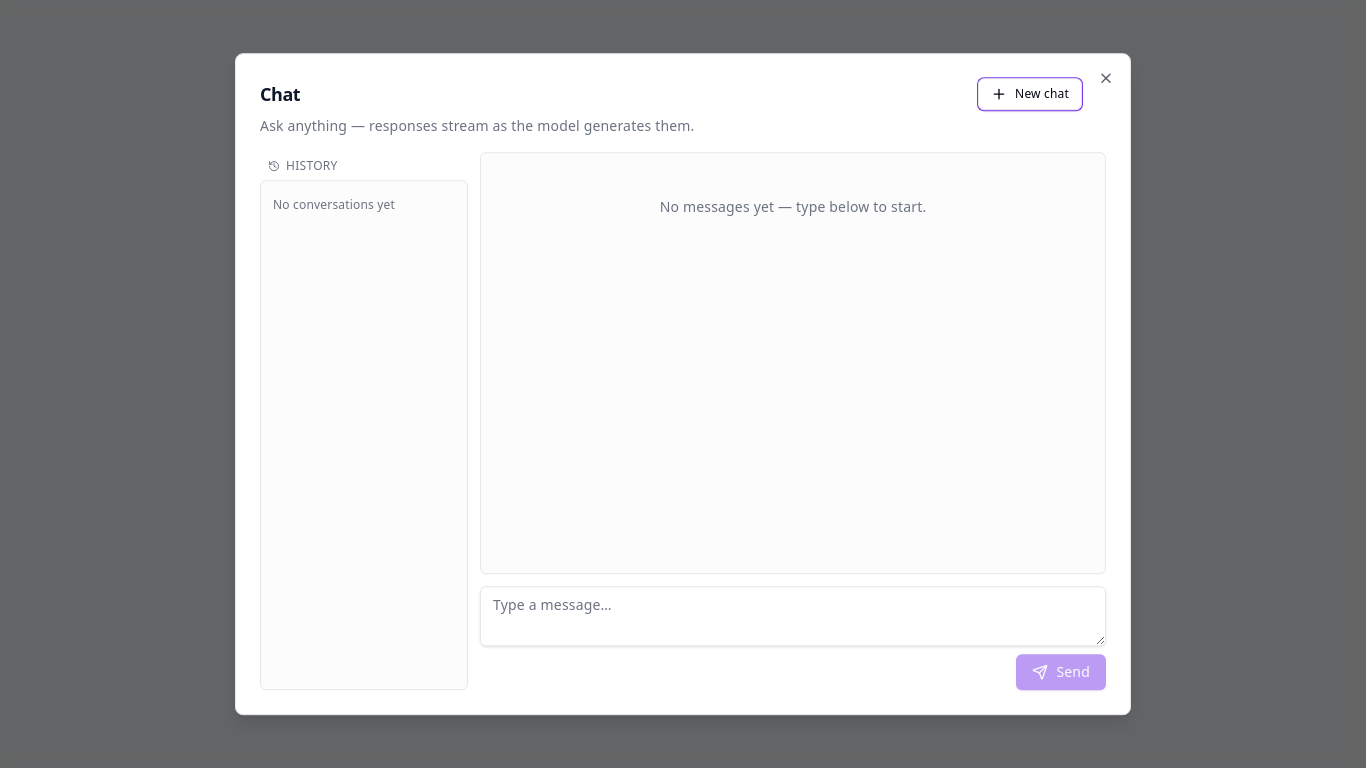
Test: ChatPanel › disables the Send button while streaming and shows Cancel
In the text box with test id "chat-input": [793, 616] box [480,586,1106,646], type "hold the line"
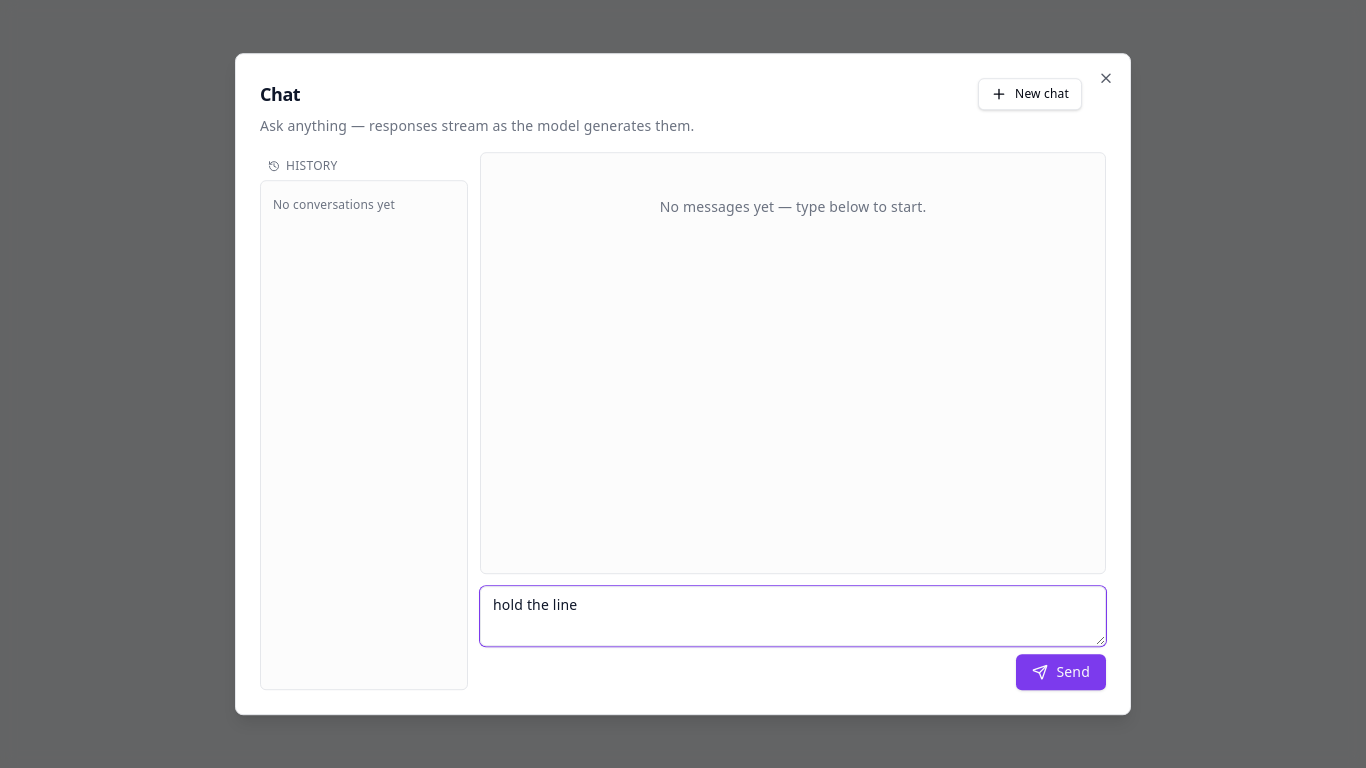
Click the button with test id "chat-send": [1061, 672] box [1016,654,1106,690]
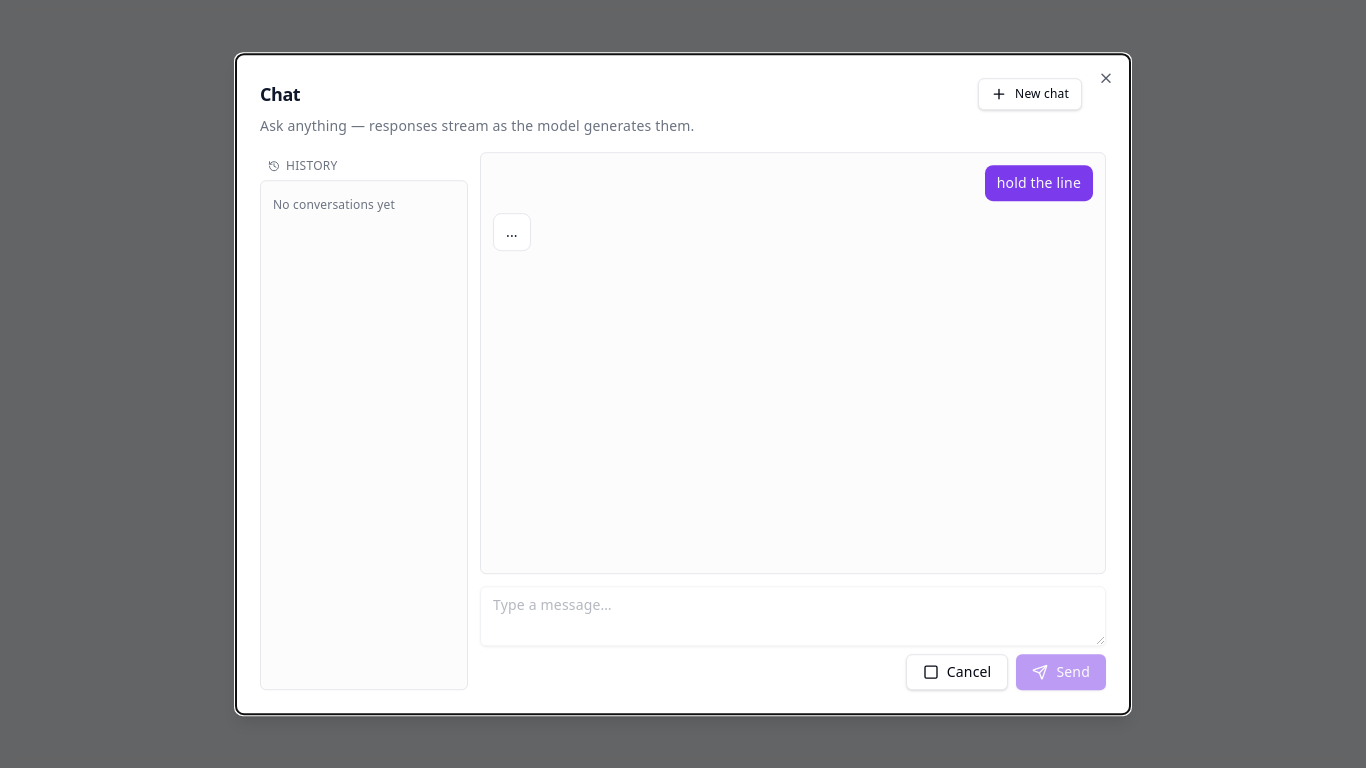
Expected: the button with test id "chat-send" is disabled, [1016,654,1106,690]
Expected: the button with test id "chat-cancel" is shown
Cancel aborts the stream — isStreaming flips back to false.
Click the button with test id "chat-cancel": [957, 672] box [906,654,1008,690]
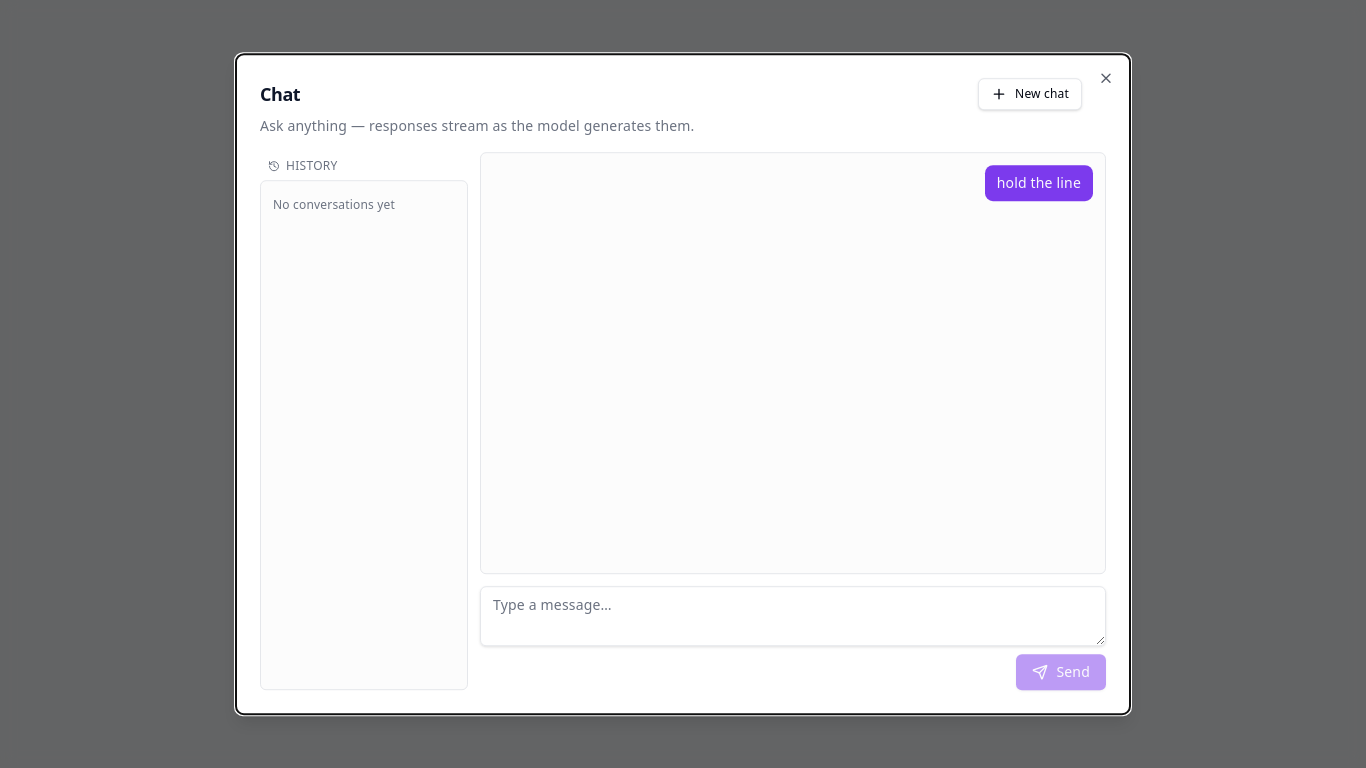
In the text box with test id "chat-input": [793, 616] box [480,586,1106,646], type "again"
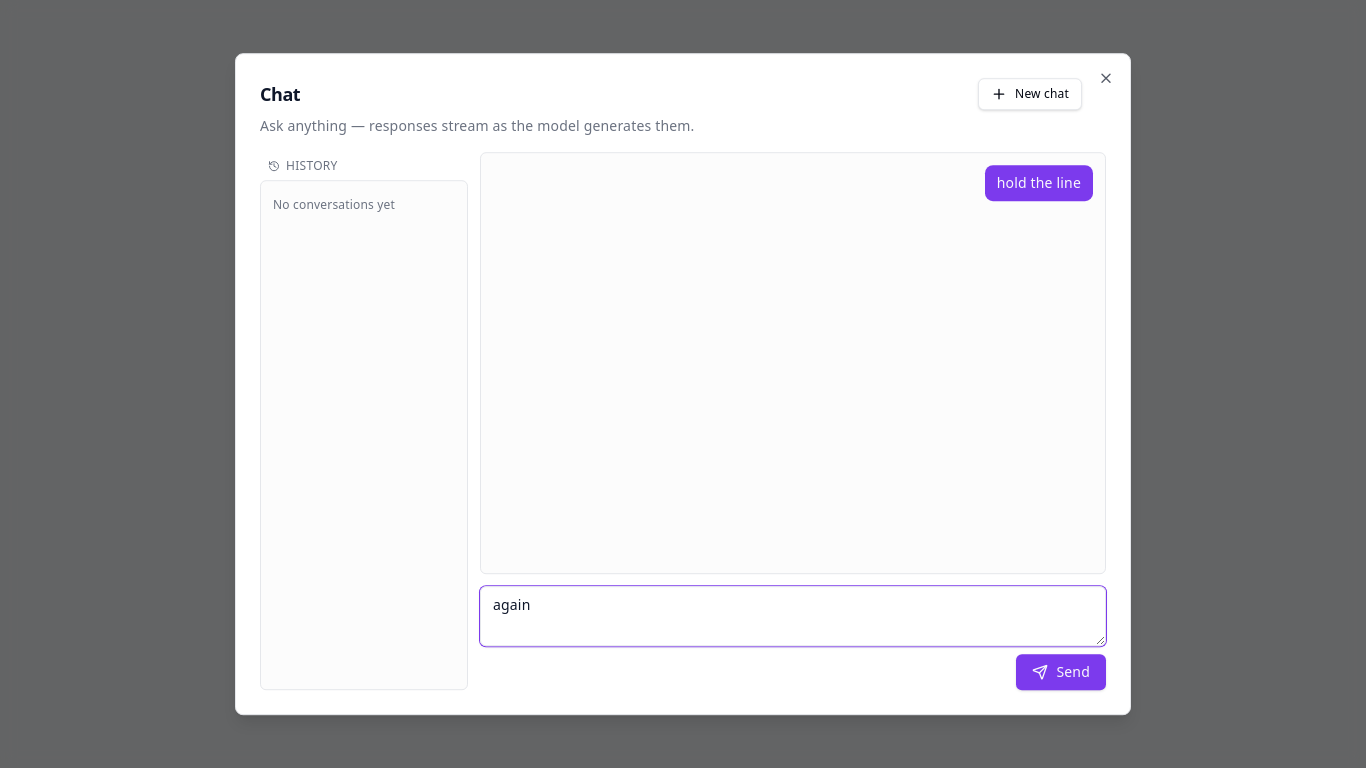
Expected: the button with test id "chat-send" is enabled, [1016,654,1106,690]
